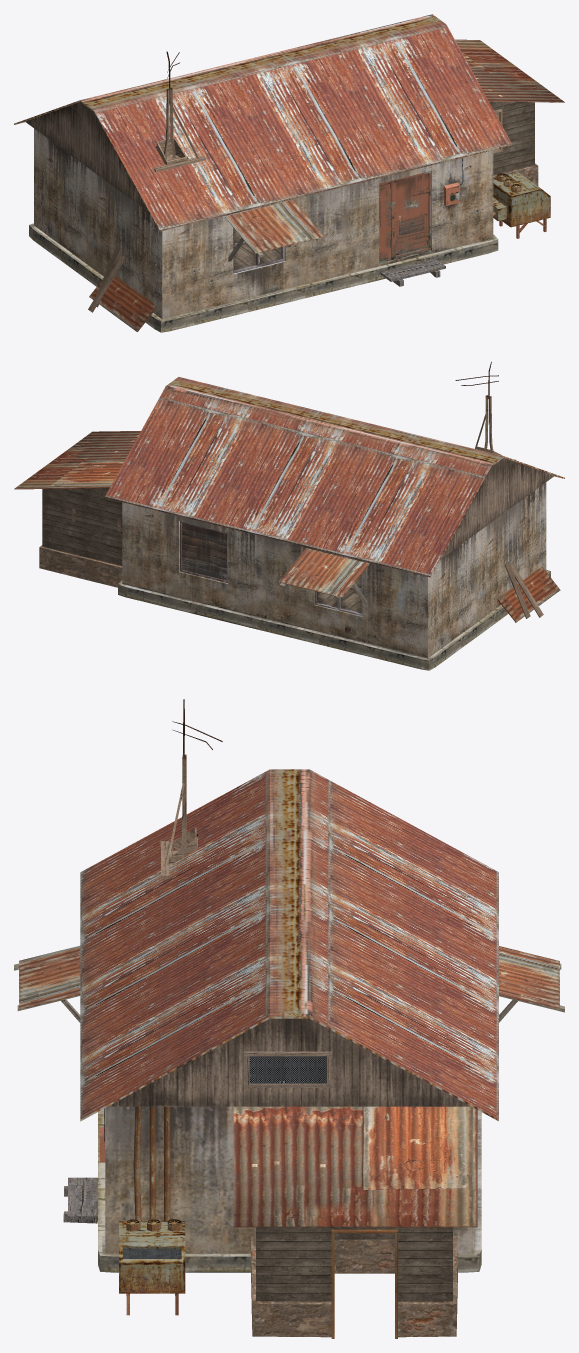
File: derelict_house.glb
3 views of the same model, one above another, from view 1: azimuth 30°, elevation 25°; view 2: azimuth 150°, elevation 25°; view 3: azimuth 270°, elevation 25° (orthographic). The views are drawn at different scales.
Visible parts, largest first — view 1: Cube.001, Cube, Cube.015, Cube.026, Cube.007, Cube.024, Door_Size, Cube.019, Cube.021, Cube.011, Cube.006, Cube.022 (+3 smaller); view 2: Cube.001, Cube, Cube.024, Cube.026, Cube.015, Cube.003, Cube.004, Cube.021, Cube.023, Cube.025; view 3: Cube.001, Cube.026, Cube, Cube.024, Cube.015, Cube.019, Cube.007, Cube.003, Cylinder.001, Cube.014, Cube.006, Cube.013 (+3 smaller).
Part boxes in pixels (<box>): Cube.001: <box>14,14,512,231</box>; Cube: <box>29,128,498,332</box>; Cube.015: <box>26,102,148,211</box>; Cube.026: <box>455,39,564,102</box>; Cube.007: <box>225,200,323,253</box>; Cube.024: <box>489,101,538,185</box>; Door_Size: <box>395,173,428,255</box>; Cube.019: <box>493,172,550,227</box>; Cube.021: <box>89,276,157,331</box>; Cube.011: <box>379,171,430,262</box>; Cube.006: <box>380,259,445,286</box>; Cube.022: <box>153,137,205,172</box>; Cube.001: <box>105,377,564,577</box>; Cube: <box>118,482,550,670</box>; Cube.024: <box>39,488,122,587</box>; Cube.026: <box>14,431,140,489</box>; Cube.015: <box>440,458,553,559</box>; Cube.003: <box>279,548,369,597</box>; Cube.004: <box>182,523,226,580</box>; Cube.021: <box>497,567,560,622</box>; Cube.023: <box>505,562,543,618</box>; Cube.025: <box>455,361,498,450</box>; Cube.001: <box>80,769,498,1121</box>; Cube.026: <box>233,1106,477,1227</box>; Cube: <box>98,1106,481,1272</box>; Cube.024: <box>251,1227,457,1337</box>; Cube.015: <box>108,836,470,1106</box>; Cube.019: <box>119,1221,185,1293</box>; Cube.007: <box>19,945,80,1009</box>; Cube.003: <box>499,946,559,1009</box>; Cylinder.001: <box>133,1106,170,1221</box>; Cube.014: <box>249,1056,326,1083</box>; Cube.006: <box>63,1177,97,1223</box>; Cube.013: <box>243,1051,332,1087</box>.
Size of the model in its own units: 14.43 by 7.26 by 9.96.
Materials: 7 (6 with a texture image).
